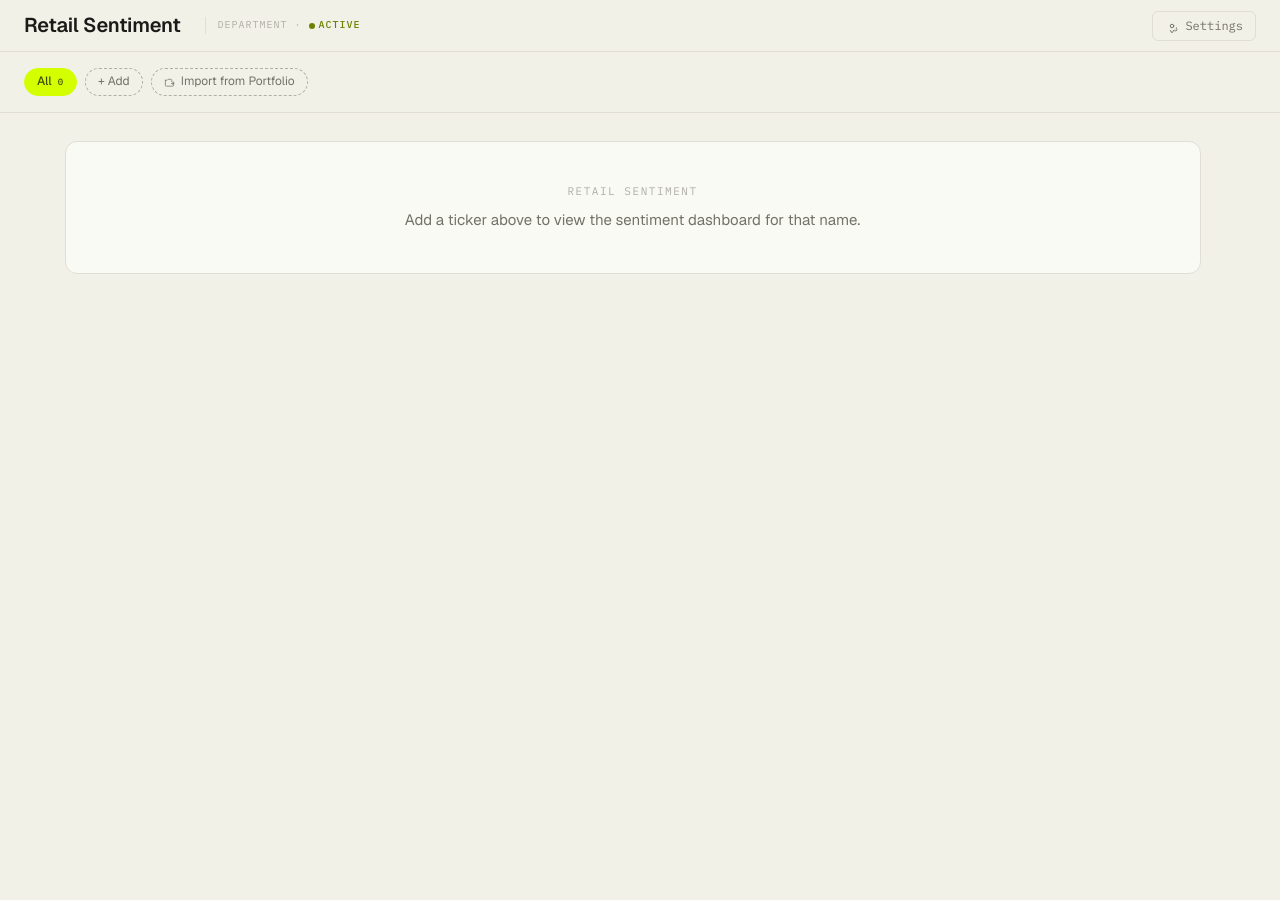
Scenario: RetailSentiment page › shows settings panel when settings button clicked
The width and height of the screenshot is (1280, 900).
Click the button with test id "rs-settings-button" at x=1204, y=26, box [1152,10,1256,40]
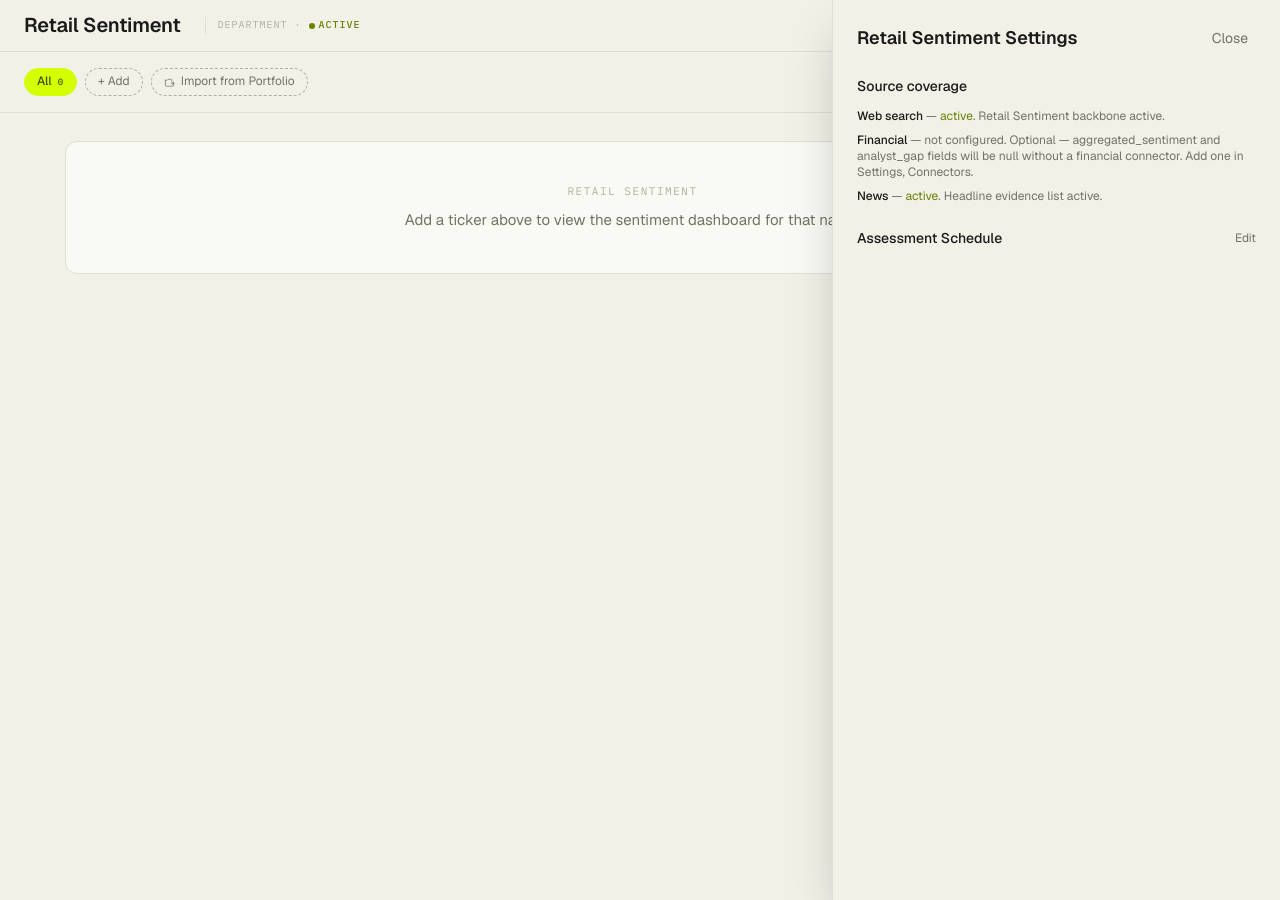
Check: the dialog with test id "rs-settings-panel" is shown, box [832,0,1279,899]
